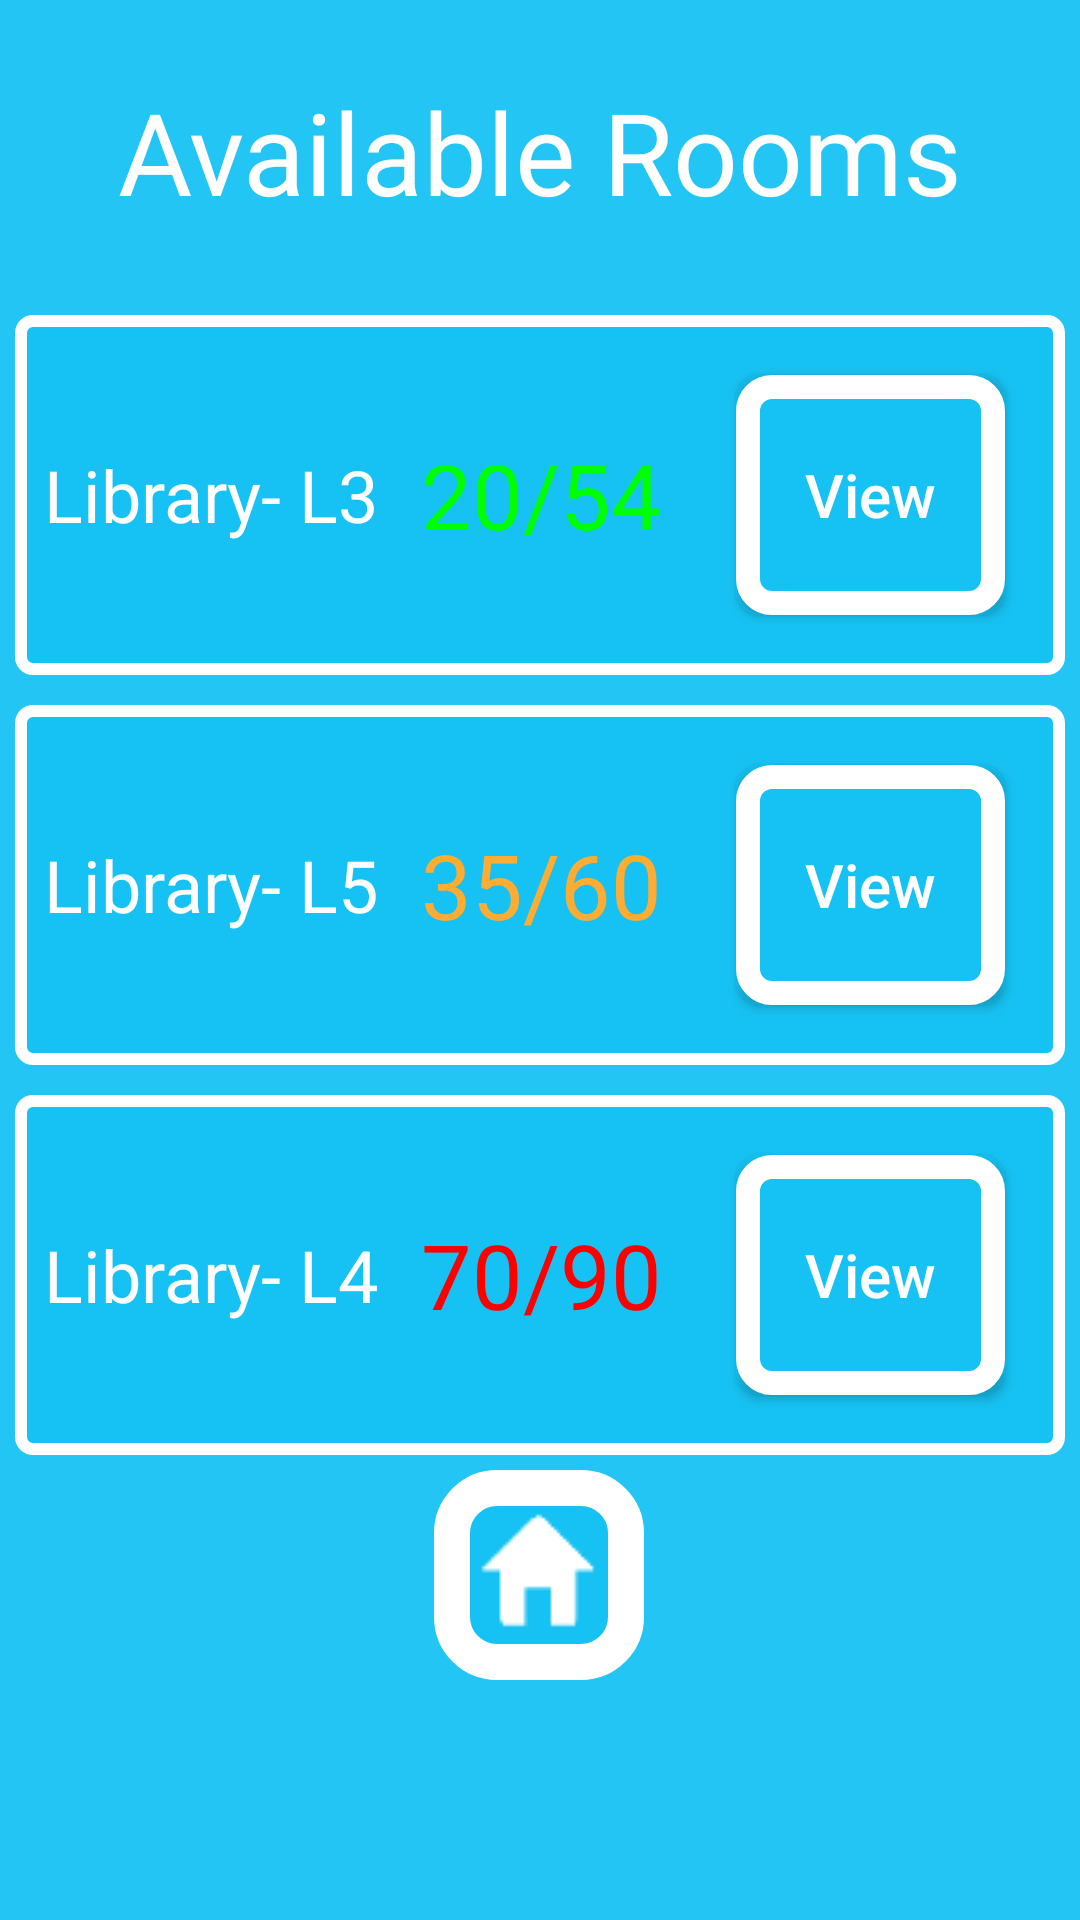

Named icons in this screenshot (1080 x 1920) and their centers, (x=x, y=y):
home: (x=539, y=1575)
